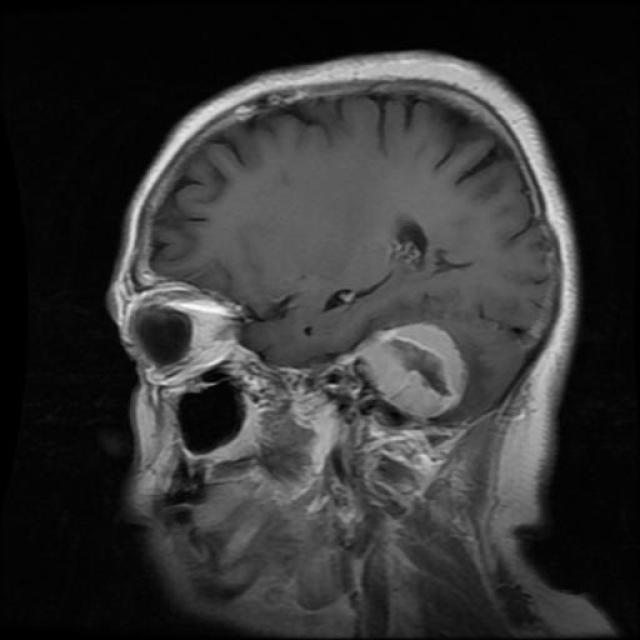meningioma: (351, 322, 468, 420)
